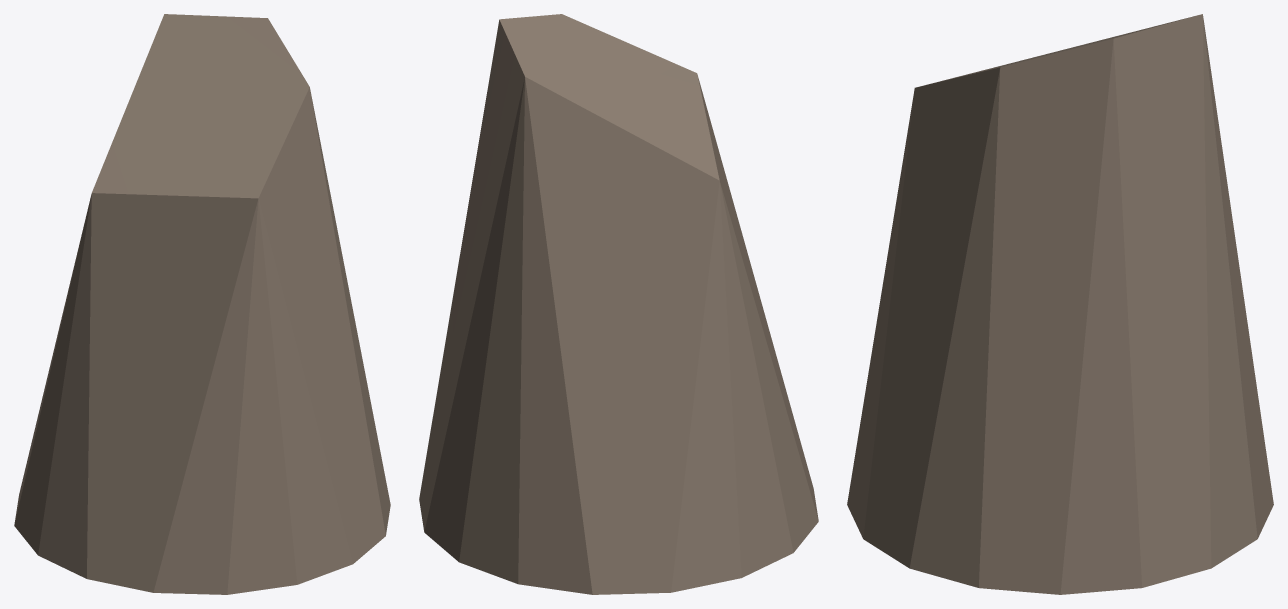
File: trunk2.gltf
3 renders of one model, left to right at view 1: azimuth 30°, elevation 25°; view 2: azimuth 150°, elevation 25°; view 3: azimuth 270°, elevation 25°, orthographic. The views are drawn at different scales.
Visible parts, largest first — view 1: Sphere.057_wood_0; view 2: Sphere.057_wood_0; view 3: Sphere.057_wood_0.
Part boxes in pixels (x1,y1,x2,y2): Sphere.057_wood_0: [14, 14, 390, 594]; Sphere.057_wood_0: [419, 14, 818, 594]; Sphere.057_wood_0: [847, 14, 1273, 594].
Bounding box in the file's own units: 0.2206 × 0.2937 × 0.2206.
